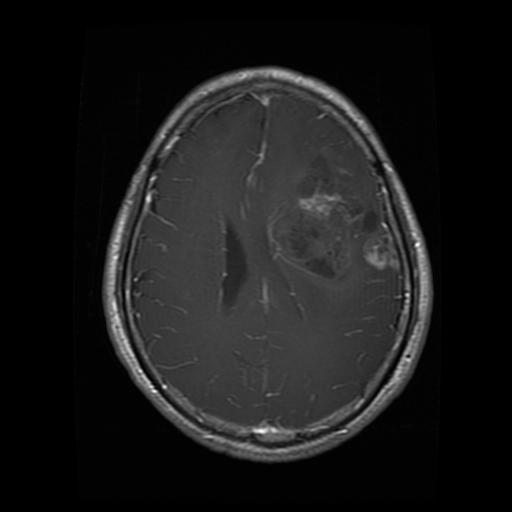Gliomia_tumour: (265, 153, 399, 283)
